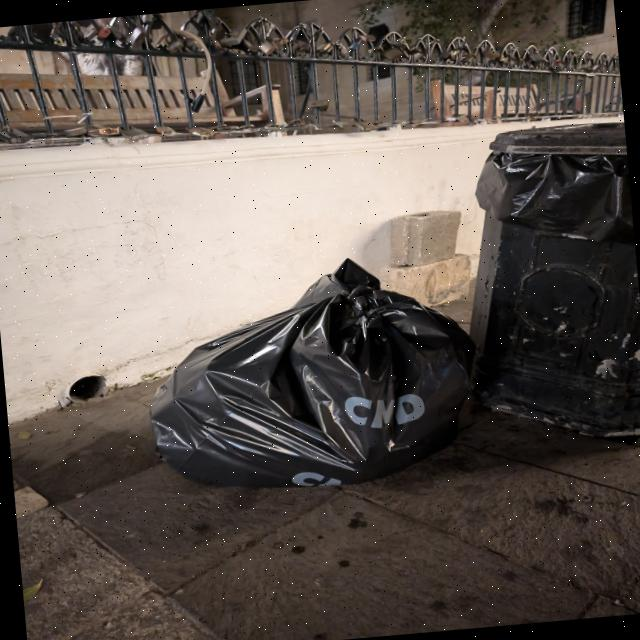Mixed Waste: (137, 246, 491, 503)
